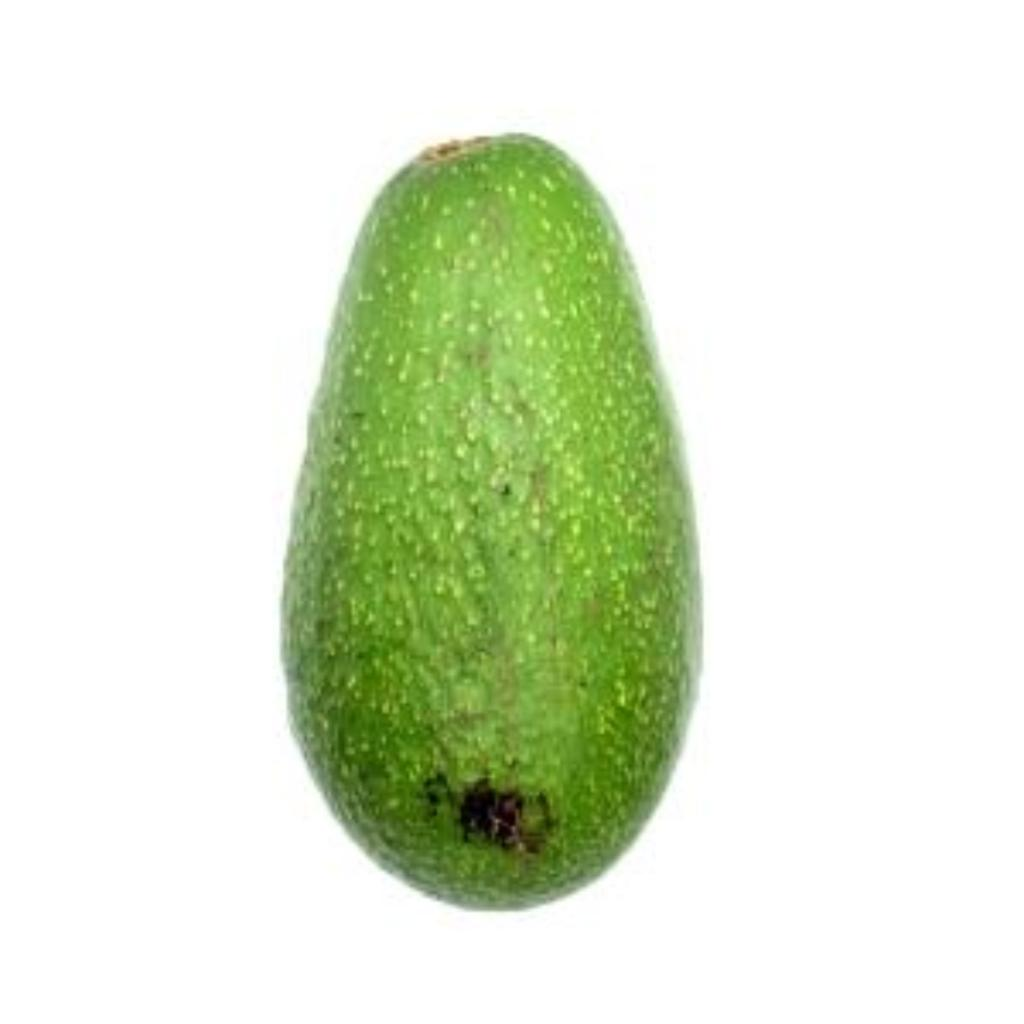cercospora_spot: (276, 98, 720, 908)
